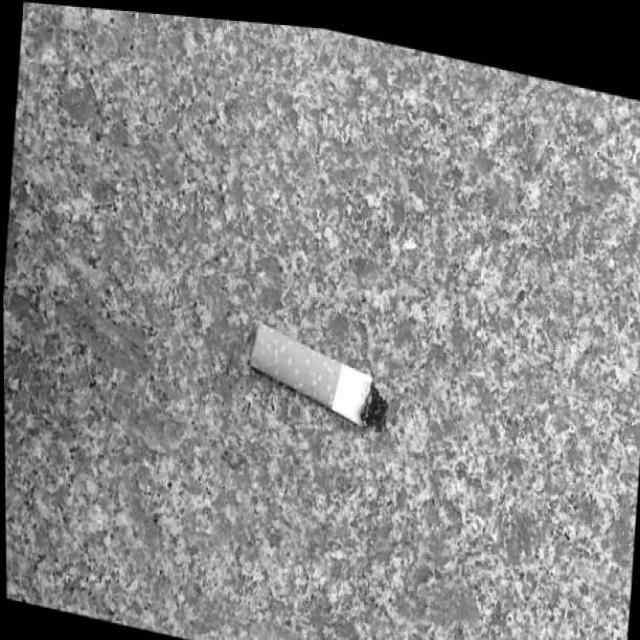cigarette: (244, 311, 395, 432)
